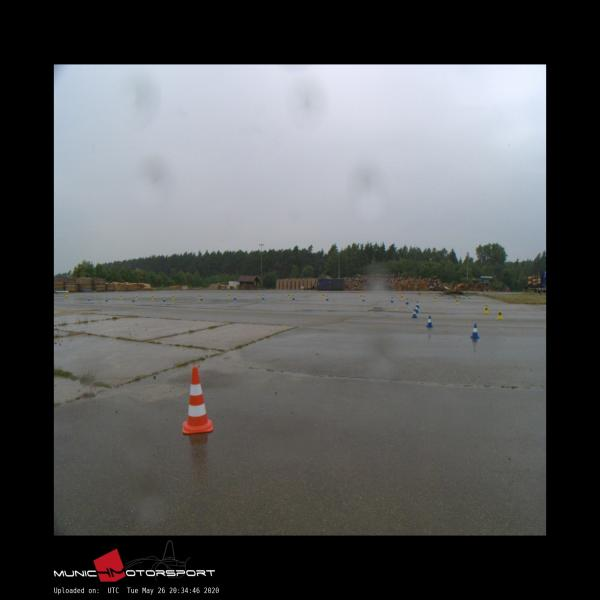blue_cone: (471, 323, 478, 338), (425, 315, 432, 327), (412, 308, 418, 317), (415, 305, 419, 312), (416, 301, 419, 308), (405, 299, 409, 304), (390, 297, 394, 302), (362, 296, 365, 301), (132, 297, 135, 302), (326, 296, 329, 300), (292, 296, 295, 300), (262, 294, 264, 300), (200, 296, 203, 300), (105, 297, 108, 301), (87, 297, 90, 300), (234, 295, 236, 299), (163, 297, 165, 301)
large_orange_cone: (182, 366, 213, 433)
yellow_cone: (497, 310, 502, 318), (484, 306, 488, 313), (456, 299, 459, 304), (151, 295, 154, 300), (401, 295, 404, 299), (322, 294, 325, 298), (135, 296, 138, 300), (434, 296, 436, 301), (360, 294, 362, 299), (288, 293, 290, 298), (228, 294, 231, 297), (198, 295, 201, 298), (65, 293, 68, 296), (258, 293, 260, 297), (120, 295, 122, 299), (173, 295, 174, 299)
